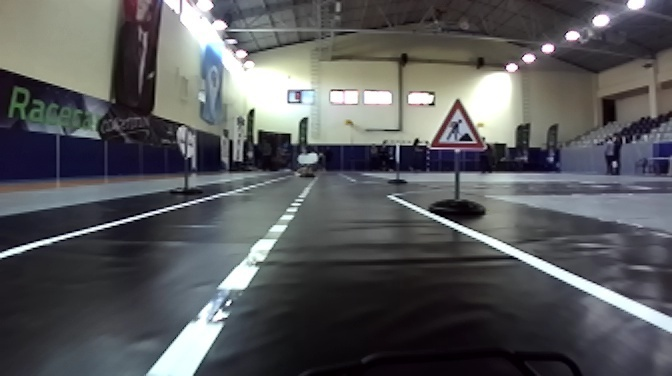yol_yapimi: (426, 94, 488, 150)
